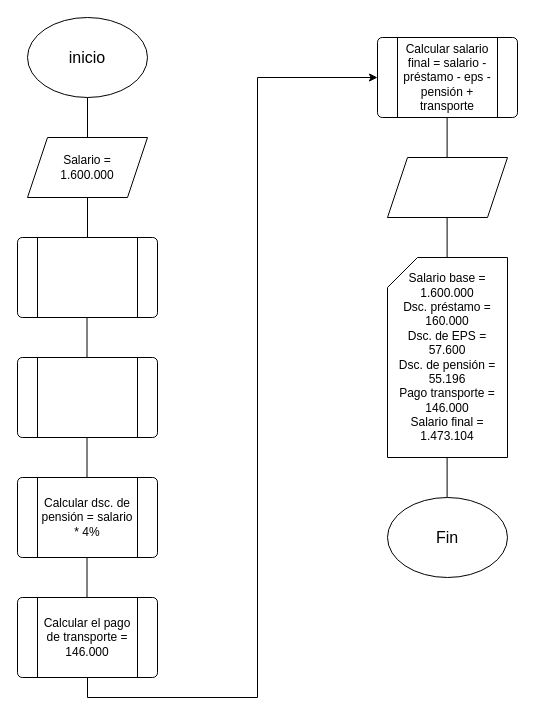
The diagram is 535 pixels wide and 723 high, and some of its shapes have lost their labels. The centre of each missing label's shape, as x and y in pixels:
"Calcular dsc. de eps = salario * 4%" goes at (x=87, y=397).
"Calcular dsc. de préstamo =160.000" goes at (x=87, y=277).
"Salario final = 1.473.104" goes at (x=447, y=187).
